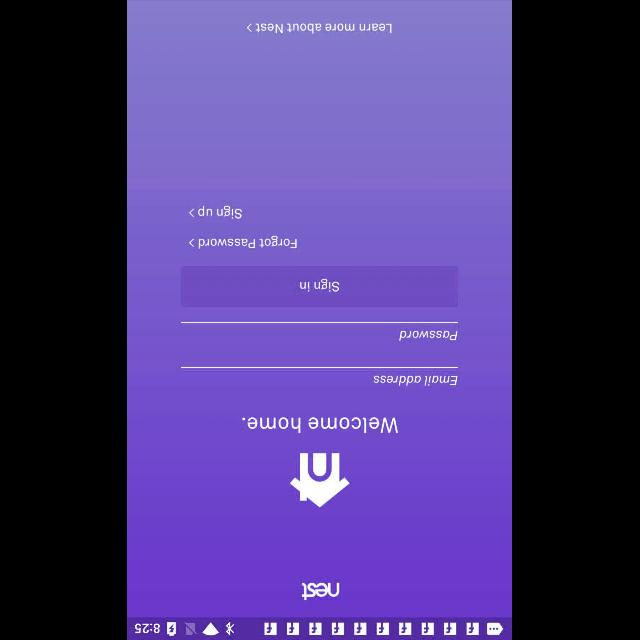icon: (290, 452, 350, 508), (189, 208, 195, 218), (189, 238, 195, 248)
image: (302, 582, 340, 600)
input: (182, 366, 458, 386), (182, 322, 458, 341)
text: (243, 416, 399, 434), (248, 23, 392, 34), (198, 236, 298, 248), (374, 374, 458, 386), (400, 331, 458, 342), (199, 205, 243, 219)
textbutton: (182, 266, 458, 306)
uppertaskbar: (128, 617, 512, 639)
